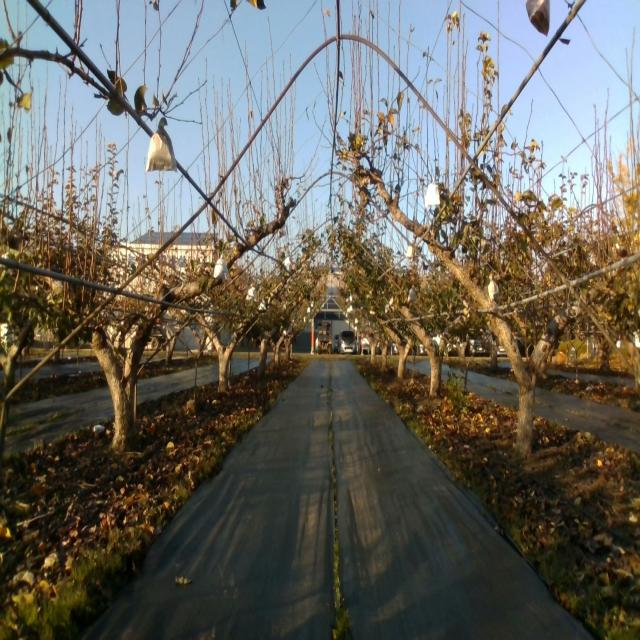pearbags: (146, 127, 178, 174), (526, 0, 550, 39), (423, 179, 440, 209), (213, 253, 229, 280), (487, 274, 499, 301), (246, 284, 256, 301)
